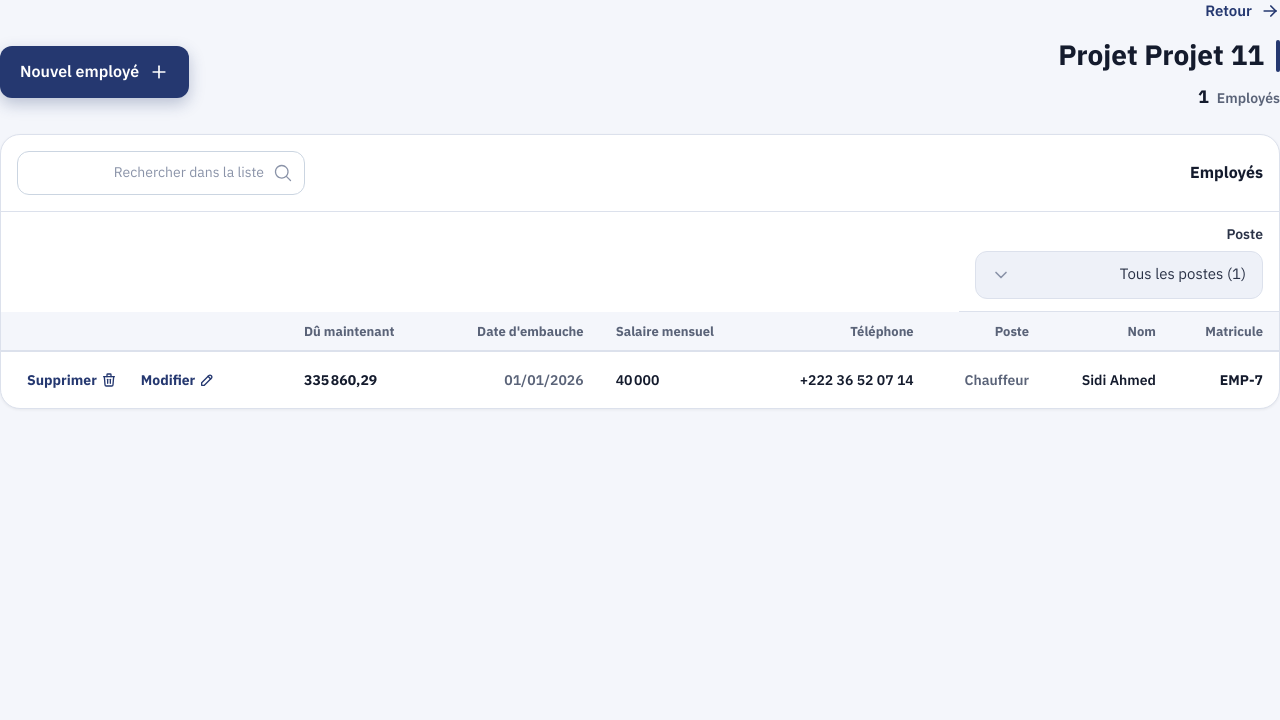
a project's employees › deletes an employee only after confirming, and shows why the backend refused
The width and height of the screenshot is (1280, 720).
Expected: the cell "EMP-7" is shown, [1172,352,1279,408]
What coordinates should you click on to do the following:
click the link with aria-label "Supprimer Sidi Ahmed"
I would click on:
 (72, 380)
Its box is [27,370,117,390].
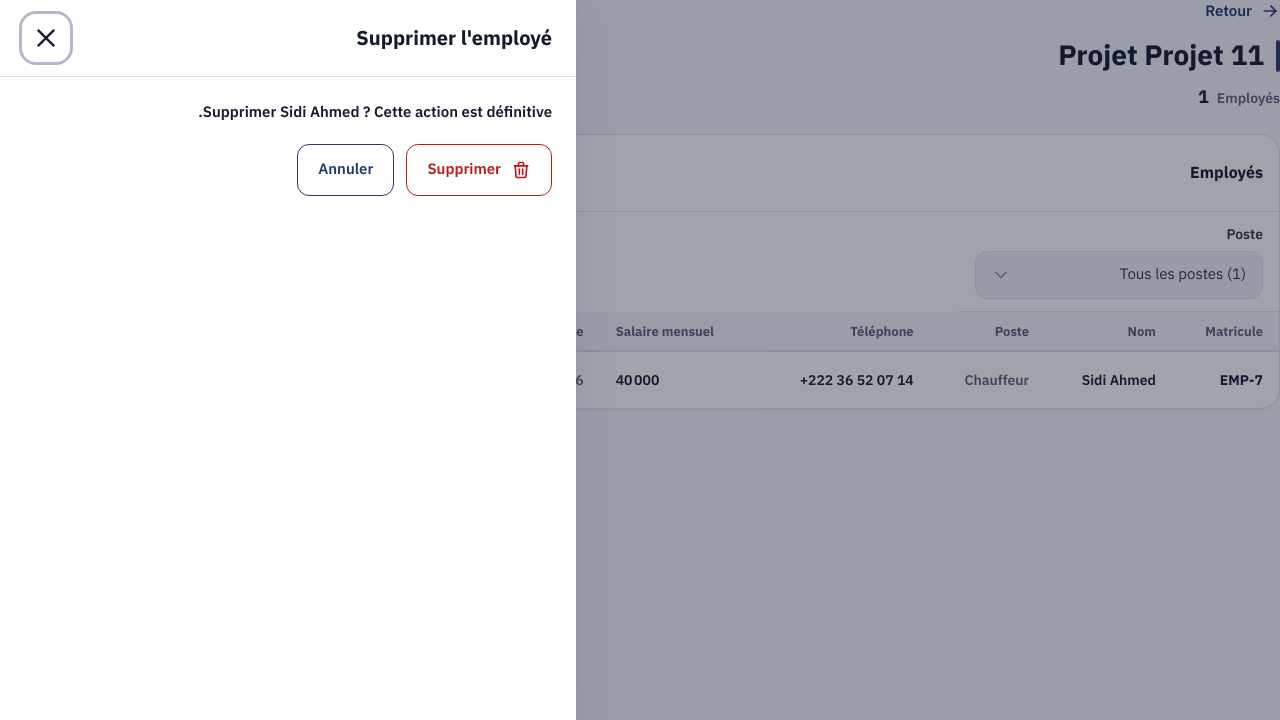
What coordinates should you click on to do the following:
click the button "Supprimer"
I would click on:
 (479, 170)
Its box is [406,144,552,196].
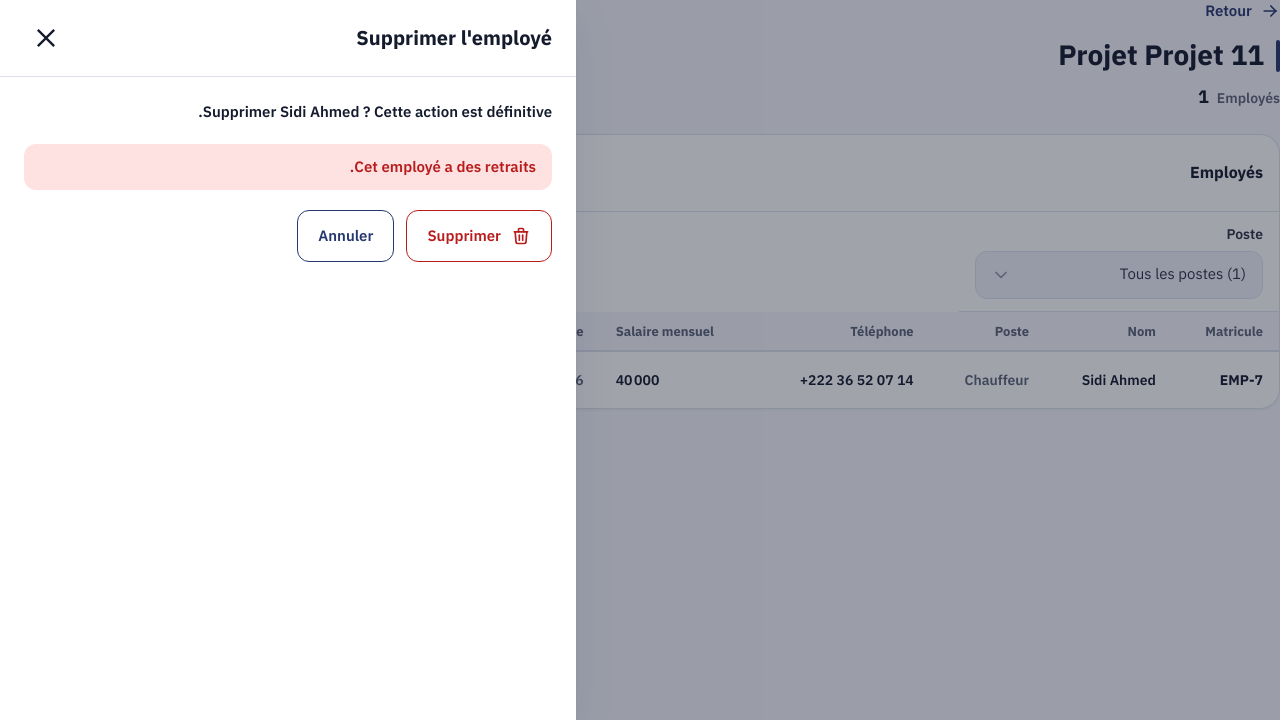
Expected: the text "Cet employé a des retraits." is shown, [24,144,552,190]
